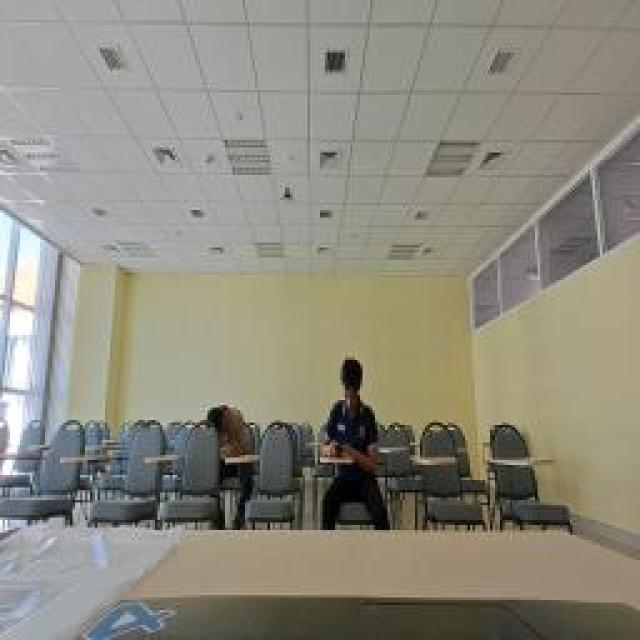phone: (322, 355, 378, 455)
sleep: (200, 402, 250, 458)
